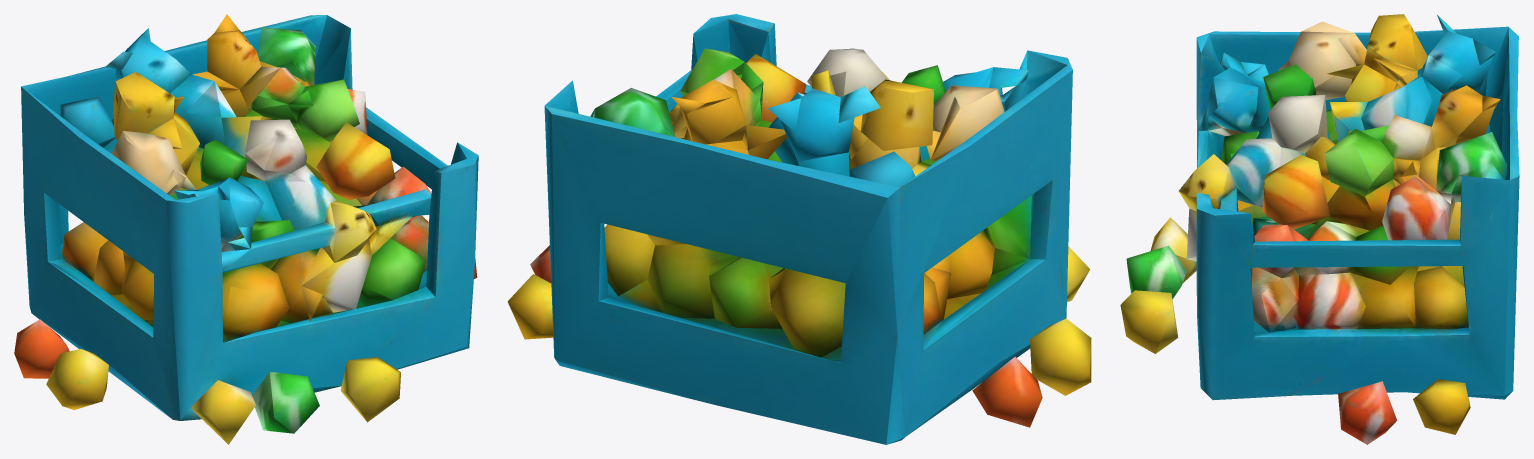
Rendered from toyBin.glb.
The picture shows the model from 3 angles, left to right: view 1: azimuth 30°, elevation 25°; view 2: azimuth 150°, elevation 25°; view 3: azimuth 270°, elevation 25°; orthographic projection. The views are drawn at different scales.
Parts seen in each view (by area): view 1: model; view 2: model; view 3: model.
Part boxes in pixels (<box>): model: <box>14,14,478,444</box>; model: <box>507,14,1091,444</box>; model: <box>1120,14,1519,444</box>.
Bounding box in the file's own units: 1.92 × 1.16 × 1.47.
Materials: 1 (1 with a texture image).
